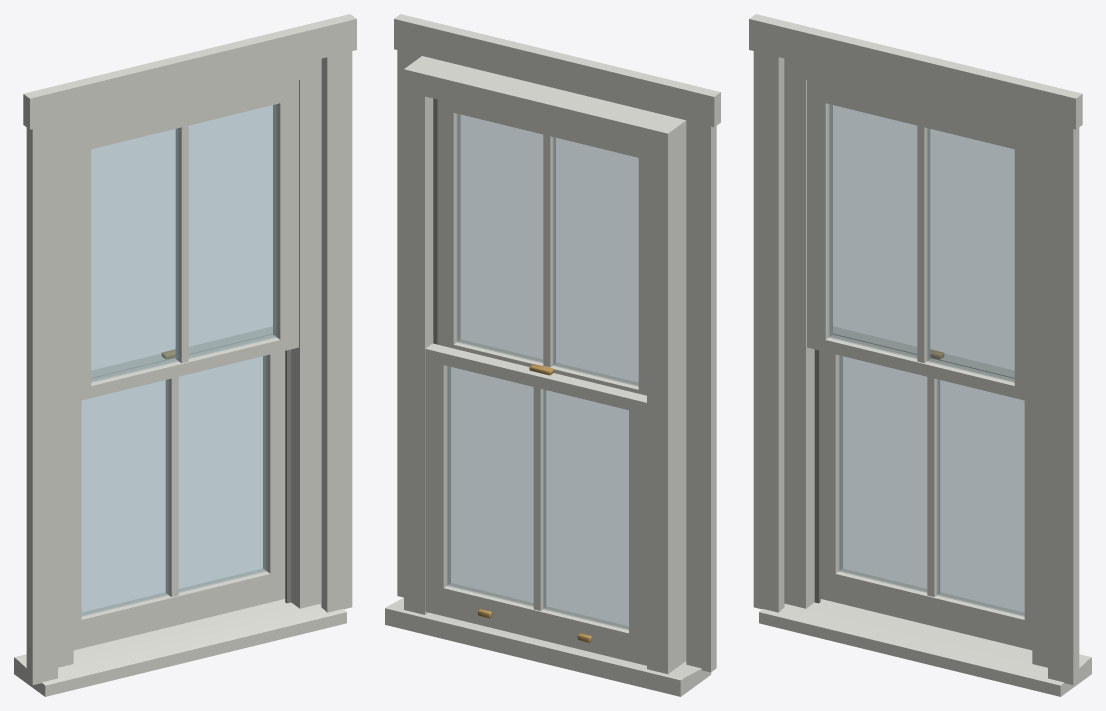
The model's file is window.glb.
The picture shows the model from 3 angles, left to right: view 1: azimuth 30°, elevation 25°; view 2: azimuth 150°, elevation 25°; view 3: azimuth 330°, elevation 25°; orthographic projection. The views are drawn at different scales.
Visible parts, largest first — view 1: Double-hung window - Frame, sashes and casing, white painted, Double-hung window - Glazing, alpha-blended clear glass, Double-hung window - Parting stops and weatherstrip, grey; view 2: Double-hung window - Frame, sashes and casing, white painted, Double-hung window - Glazing, alpha-blended clear glass, Double-hung window - Parting stops and weatherstrip, grey; view 3: Double-hung window - Frame, sashes and casing, white painted, Double-hung window - Glazing, alpha-blended clear glass, Double-hung window - Parting stops and weatherstrip, grey.
Part boxes in pixels (x1,y1,x2,y2): Double-hung window - Frame, sashes and casing, white painted: (14,14,356,696); Double-hung window - Glazing, alpha-blended clear glass: (81,104,276,616); Double-hung window - Parting stops and weatherstrip, grey: (285,349,291,603); Double-hung window - Frame, sashes and casing, white painted: (385,14,720,696); Double-hung window - Glazing, alpha-blended clear glass: (447,114,638,629); Double-hung window - Parting stops and weatherstrip, grey: (433,98,438,344); Double-hung window - Frame, sashes and casing, white painted: (749,14,1091,696); Double-hung window - Glazing, alpha-blended clear glass: (829,104,1024,616); Double-hung window - Parting stops and weatherstrip, grey: (814,349,820,603).
Bounding box in the file's own units: 0.91 × 1.59 × 0.15.
Materials: 4 (4 with a texture image).
